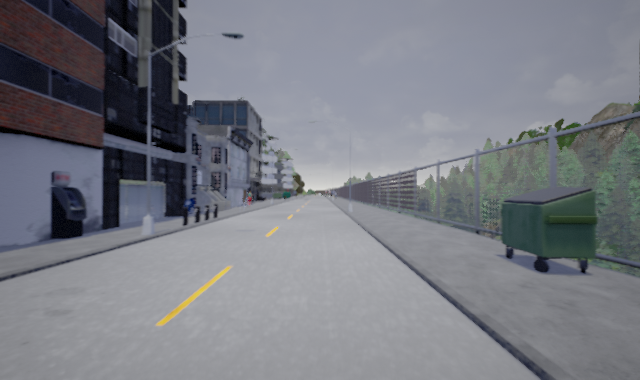pedestrian: (245, 189, 253, 207)
